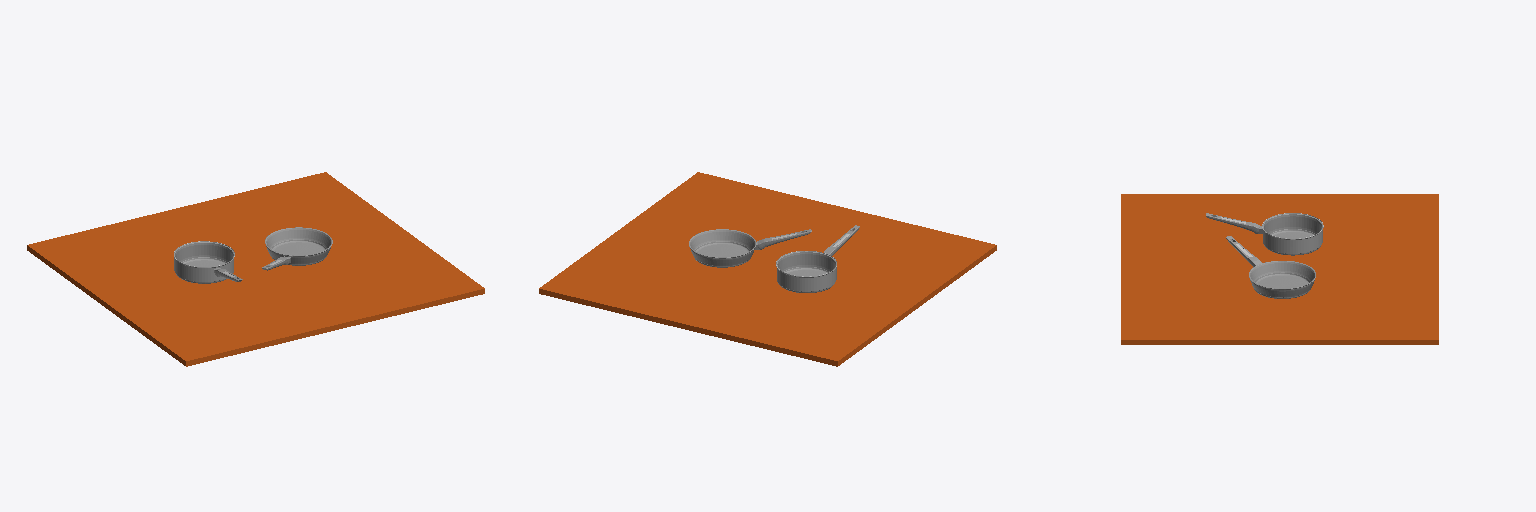
The model's file is pans2.obj.
3 renders of one model, left to right at view 1: azimuth 30°, elevation 25°; view 2: azimuth 150°, elevation 25°; view 3: azimuth 270°, elevation 25°, orthographic.
Parts seen in each view (by area): view 1: Cube.001, Cylinder.003, Cylinder.005_Cylinder.005_Cylinder.005_Cylinder.002; view 2: Cube.001, Cylinder.003, Cylinder.005_Cylinder.005_Cylinder.005_Cylinder.002; view 3: Cube.001, Cylinder.003, Cylinder.005_Cylinder.005_Cylinder.005_Cylinder.002.
Part boxes in pixels (x1,y1,x2,y2): Cube.001: (27,172,484,366); Cylinder.003: (174,241,242,283); Cylinder.005_Cylinder.005_Cylinder.005_Cylinder.002: (262,227,332,270); Cube.001: (539,172,996,366); Cylinder.003: (776,225,859,292); Cylinder.005_Cylinder.005_Cylinder.005_Cylinder.002: (689,229,811,267); Cube.001: (1121,194,1438,344); Cylinder.003: (1206,213,1323,255); Cylinder.005_Cylinder.005_Cylinder.005_Cylinder.002: (1226,236,1315,298).
Size of the model in its own units: 17.23 by 1.77 by 15.9.